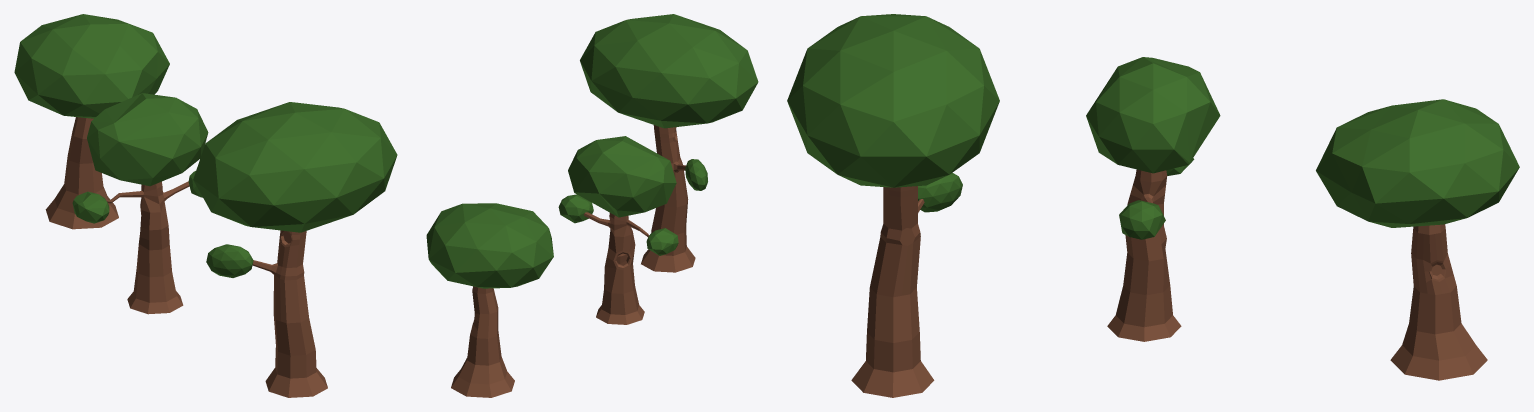
File: tree.fbx
3 renders of one model, left to right at view 1: azimuth 30°, elevation 25°; view 2: azimuth 150°, elevation 25°; view 3: azimuth 270°, elevation 25°, orthographic. The views are drawn at different scales.
Visible parts, largest first — view 1: Cylinder, Cylinder.001, Cylinder.002; view 2: Cylinder, Cylinder.001, Cylinder.002; view 3: Cylinder, Cylinder.001, Cylinder.002.
Part boxes in pixels (x1,y1,x2,y2): Cylinder: (193,102,397,397); Cylinder.001: (14,14,169,229); Cylinder.002: (72,93,208,314); Cylinder: (580,14,758,272); Cylinder.001: (426,203,553,397); Cylinder.002: (558,136,678,324); Cylinder: (787,14,999,397); Cylinder.001: (1316,99,1519,380); Cylinder.002: (1086,57,1220,341).
Size of the model in its own units: 1444 by 1854 by 3529.
